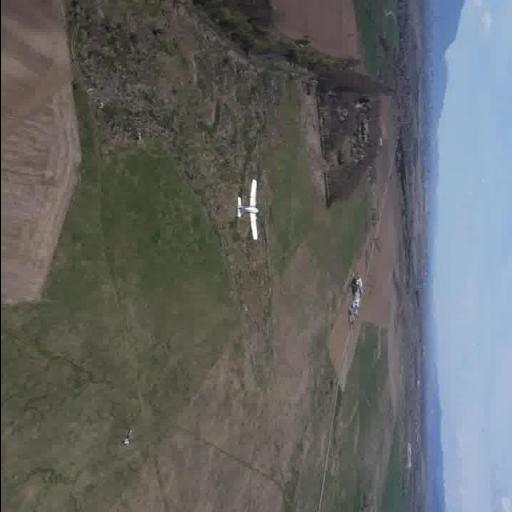uav: (226, 178, 266, 244)
